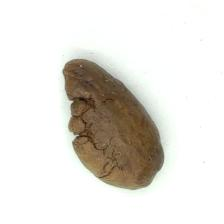NG: (56, 63, 102, 156)
